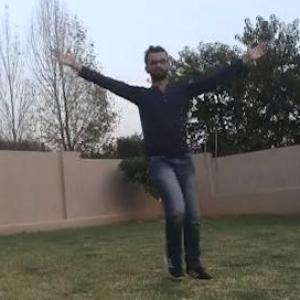takeoff: (49, 45, 252, 267)
